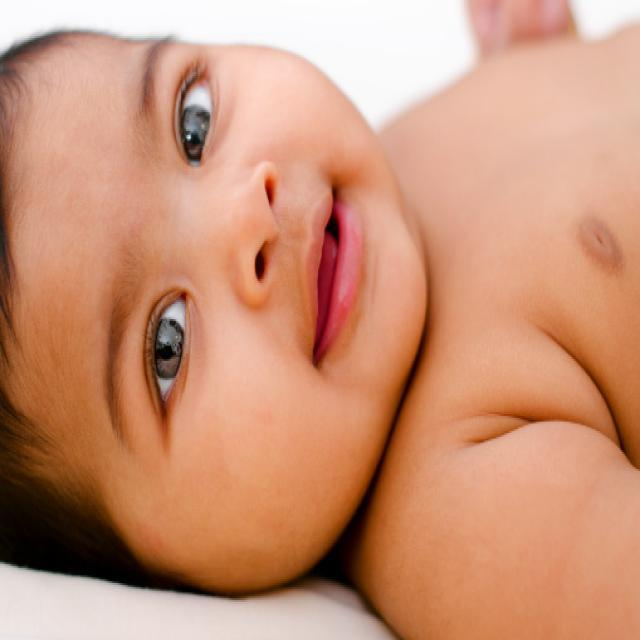non-dog: (1, 4, 640, 639)
